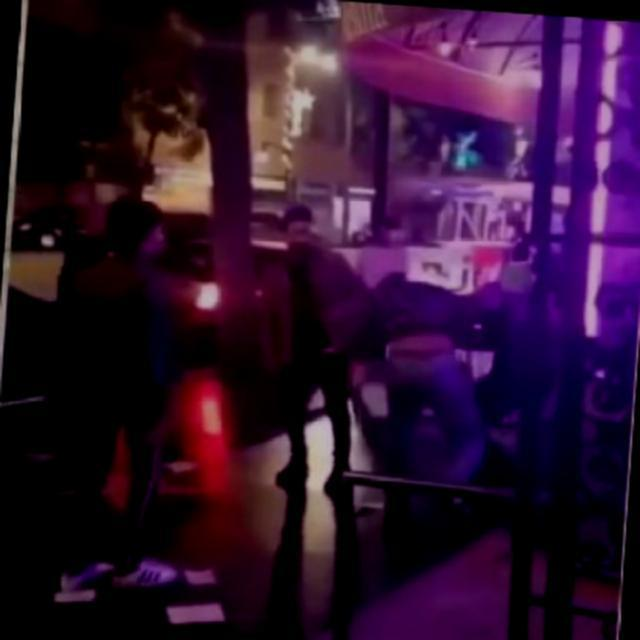fight: (318, 258, 580, 527)
non-fight: (54, 190, 202, 593)
